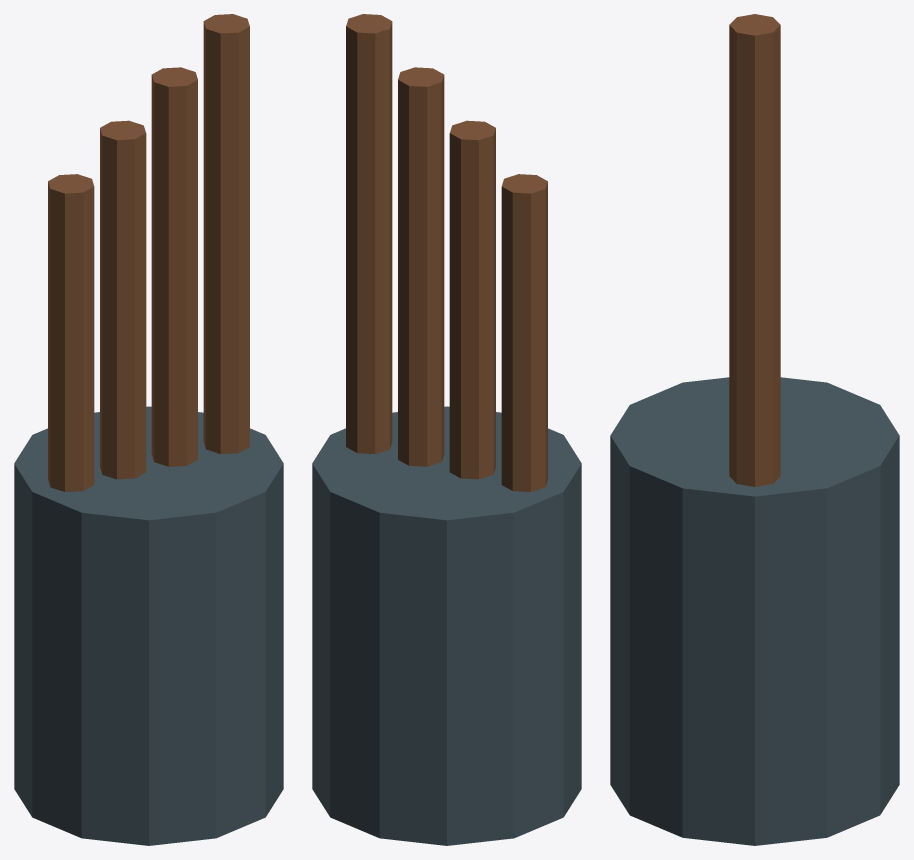
File: set_utensil_holder.glb
3 renders of one model, left to right at view 1: azimuth 30°, elevation 25°; view 2: azimuth 150°, elevation 25°; view 3: azimuth 270°, elevation 25°, orthographic. The views are drawn at different scales.
Visible parts, largest first — view 1: set_utensil_holder; view 2: set_utensil_holder; view 3: set_utensil_holder.
Boxes of the visible parts, x1=… form: set_utensil_holder: x1=14, y1=14, x2=283, y2=845; set_utensil_holder: x1=312, y1=14, x2=581, y2=845; set_utensil_holder: x1=610, y1=14, x2=899, y2=845.
Size of the model in its own units: 0.09 by 0.275 by 0.09.
